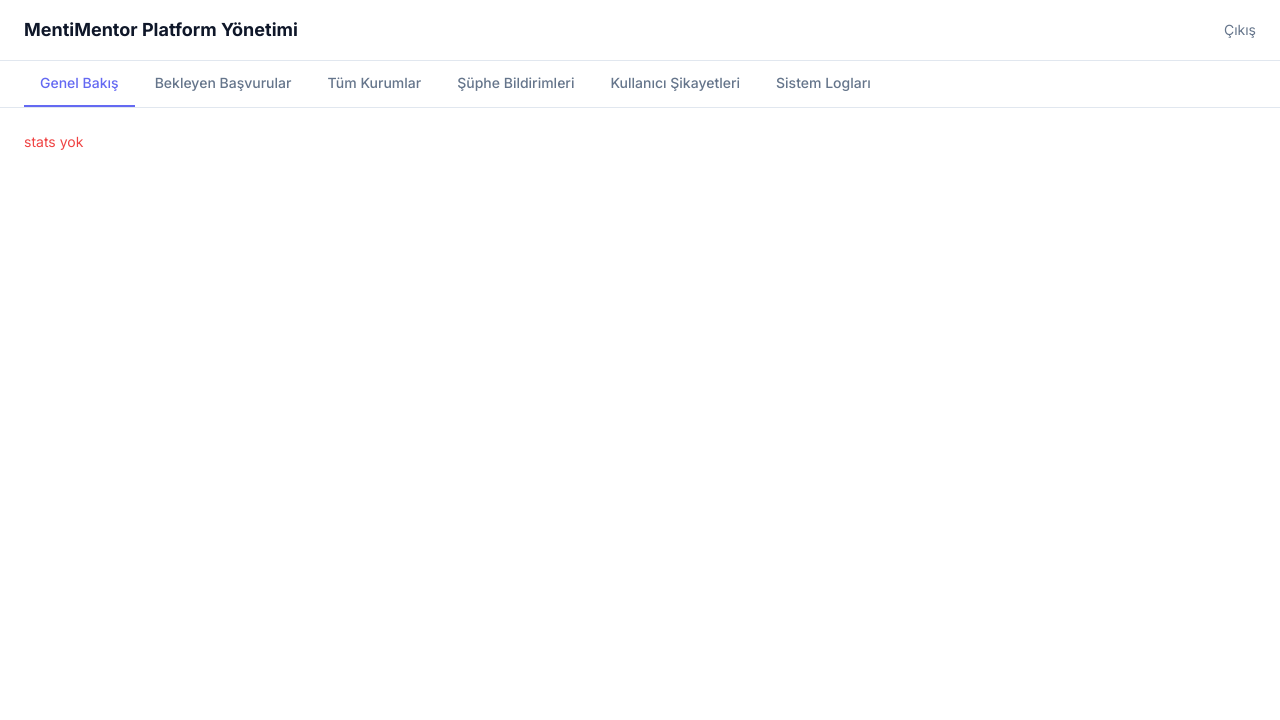
Test: AJ-41 · Platform paneli şikâyet durumu ve nedeni Türkçe › şikâyet kartında durum ve neden Türkçe; ham OPEN/DISMISSED/HARASSMENT/NO_SHOW görünmez
Click the button "Kullanıcı Şikayetleri": (675, 84) [594,61,756,107]
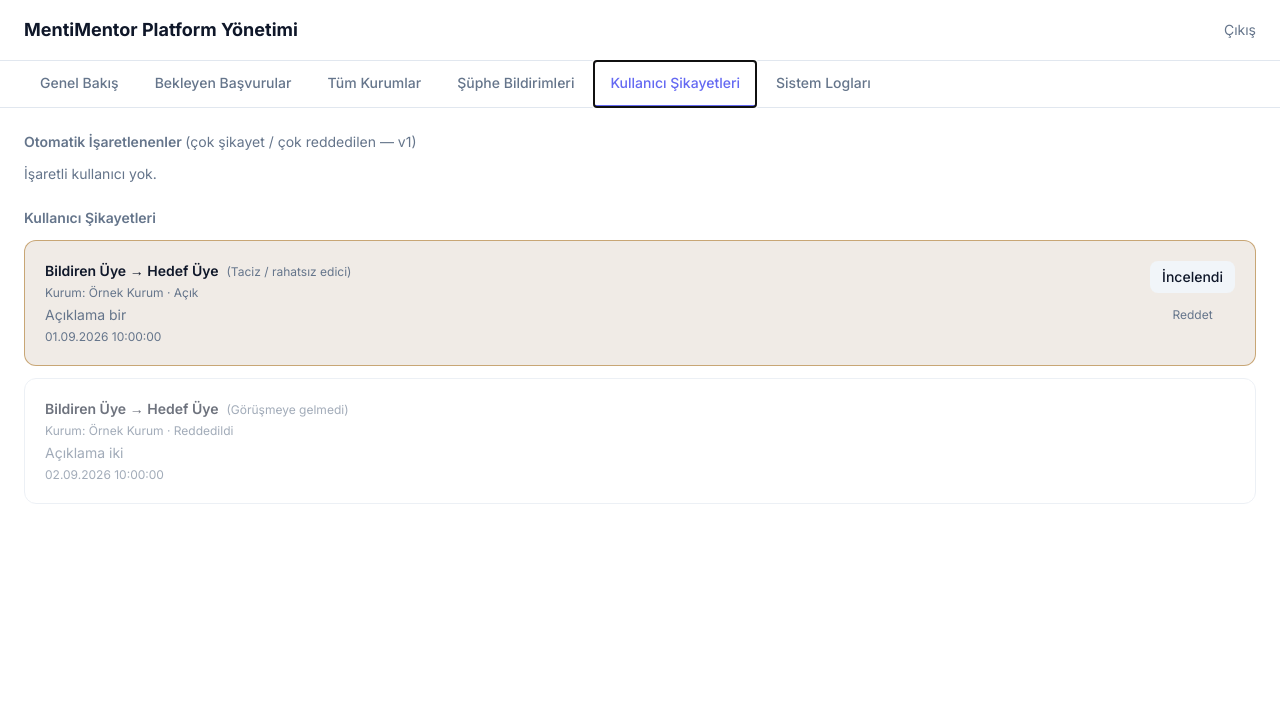
Now the text "Açıklama bir" is shown, box [45,306,126,323]
Now the text "Kurum: Örnek Kurum · Açık" is shown, box [45,285,198,300]
Now the text "Kurum: Örnek Kurum · Reddedildi" is shown, box [45,423,233,438]
